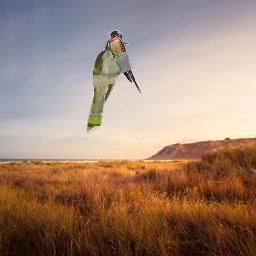Cuckoo: (86, 37, 129, 134)
Swallow: (108, 30, 141, 93)
